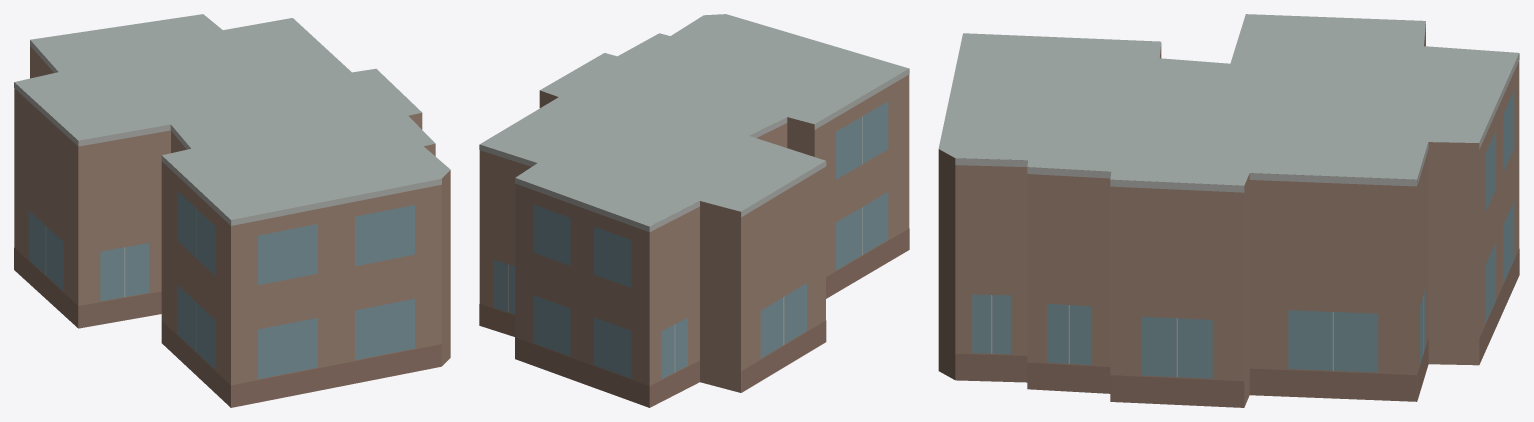
The model's file is survey-upis-32494954.glb.
3 renders of one model, left to right at view 1: azimuth 30°, elevation 25°; view 2: azimuth 150°, elevation 25°; view 3: azimuth 270°, elevation 25°, orthographic. The views are drawn at different scales.
Parts seen in each view (by area): view 1: survey-upis-32494954.tmp; view 2: survey-upis-32494954.tmp; view 3: survey-upis-32494954.tmp.
Part boxes in pixels (x1,y1,x2,y2): survey-upis-32494954.tmp: (14,14,450,407); survey-upis-32494954.tmp: (479,14,909,407); survey-upis-32494954.tmp: (938,14,1519,407).
Size of the model in its own units: 12.94 by 7.8 by 18.49.
